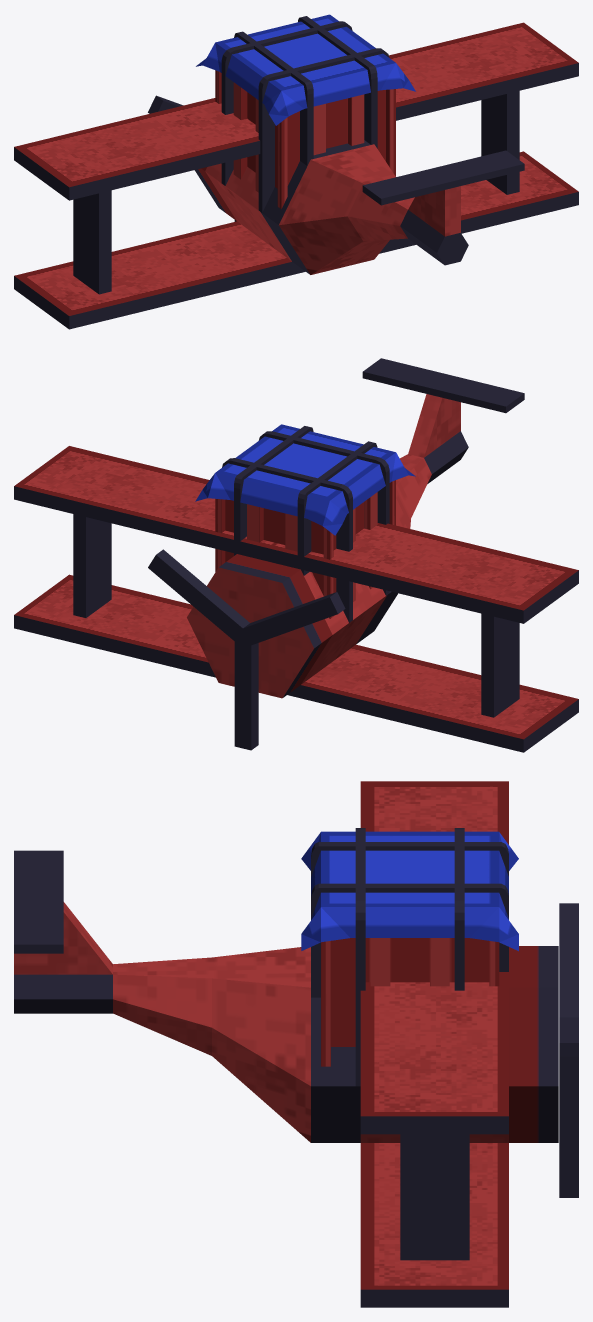
Rendered from planor.fbx.
The picture shows the model from 3 angles, top to bottom: view 1: azimuth 30°, elevation 25°; view 2: azimuth 150°, elevation 25°; view 3: azimuth 270°, elevation 25°; orthographic projection. The views are drawn at different scales.
Parts seen in each view (by area): view 1: planor, box; view 2: planor, box, engine; view 3: planor, box, engine.
Part boxes in pixels (left/top/right/bottom): planor: left=14, top=22, right=578, bottom=329; box: left=196, top=14, right=415, bottom=212; planor: left=14, top=358, right=578, bottom=752; box: left=195, top=424, right=415, bottom=622; engine: left=148, top=549, right=345, bottom=750; planor: left=14, top=781, right=558, bottom=1307; box: left=301, top=828, right=518, bottom=1086; engine: left=559, top=903, right=578, bottom=1197.
Bounding box in the file's own units: 800 × 365 × 571.
